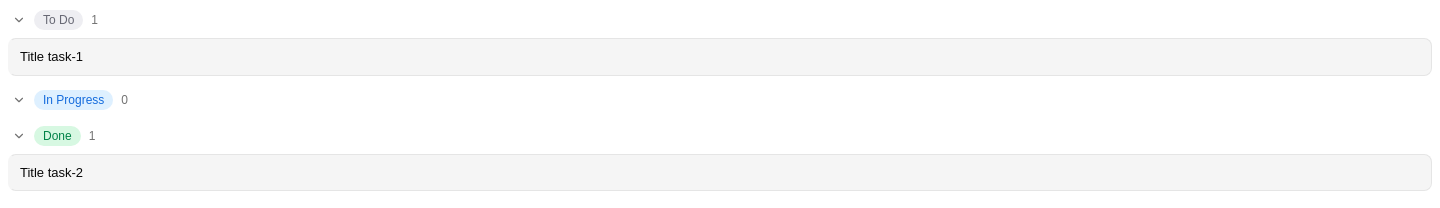
Test: collapsed statuses persist per workspace › stores the collapsed status against the active workspace
This screenshot has width=1440, height=208.
Expected: the text "Title task-2" is shown, [20,162,83,182]
Click the button "Done 1": (57, 136) [8,124,1432,148]
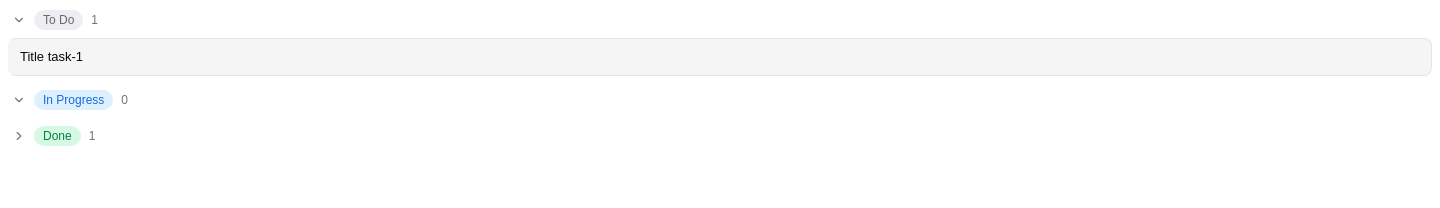
Result: the button "Title task-2" is gone
